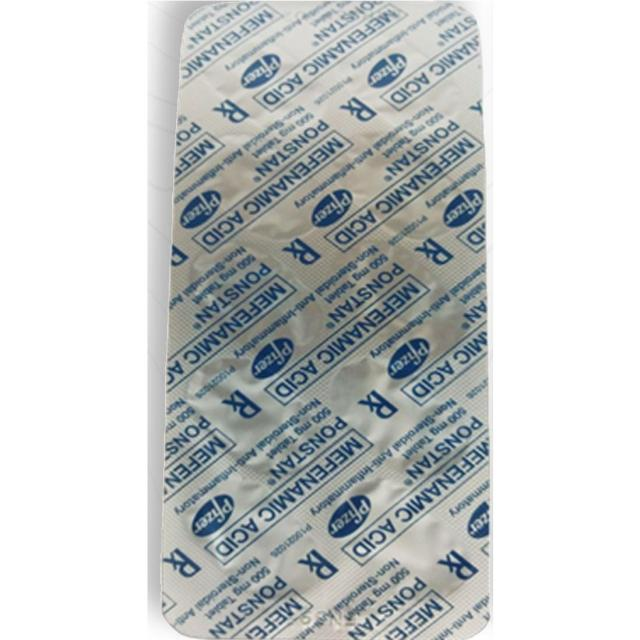blister: (155, 2, 494, 638)
